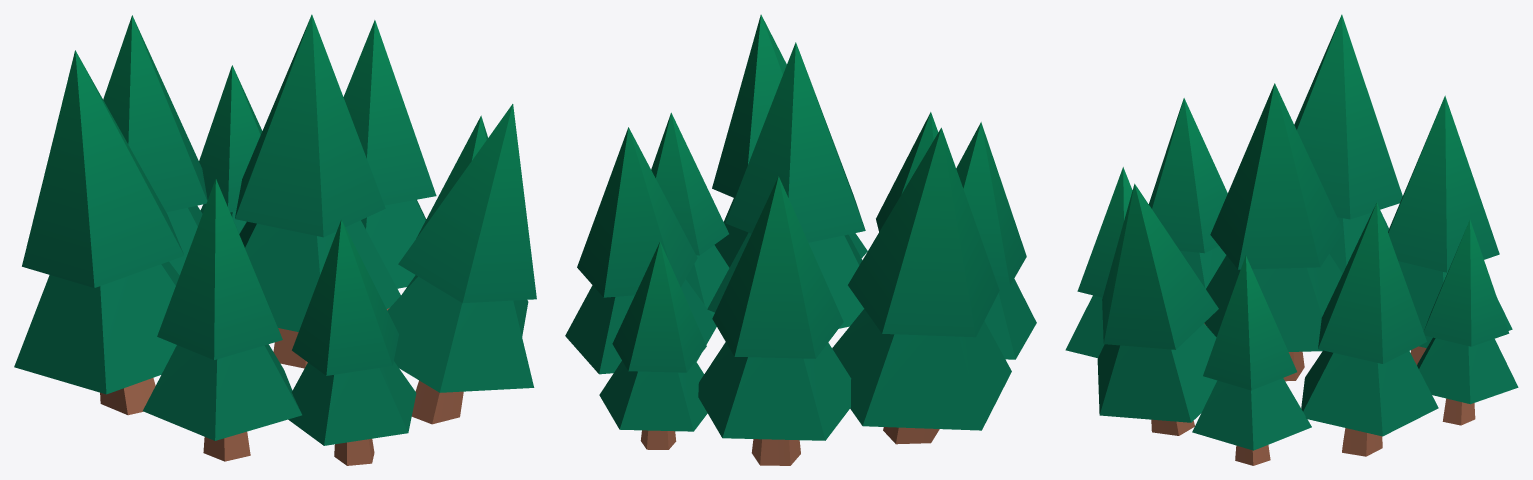
The model's file is hex-trees_A_small.glb.
The picture shows the model from 3 angles, left to right: view 1: azimuth 30°, elevation 25°; view 2: azimuth 150°, elevation 25°; view 3: azimuth 270°, elevation 25°; orthographic projection. The views are drawn at different scales.
Parts seen in each view (by area): view 1: trees_A_small; view 2: trees_A_small; view 3: trees_A_small.
Part boxes in pixels (x1,y1,x2,y2): trees_A_small: (14,14,536,465); trees_A_small: (565,14,1036,465); trees_A_small: (1065,14,1518,465).
Size of the model in its own units: 1.43 by 1.11 by 1.44.
Materials: 1 (1 with a texture image).
